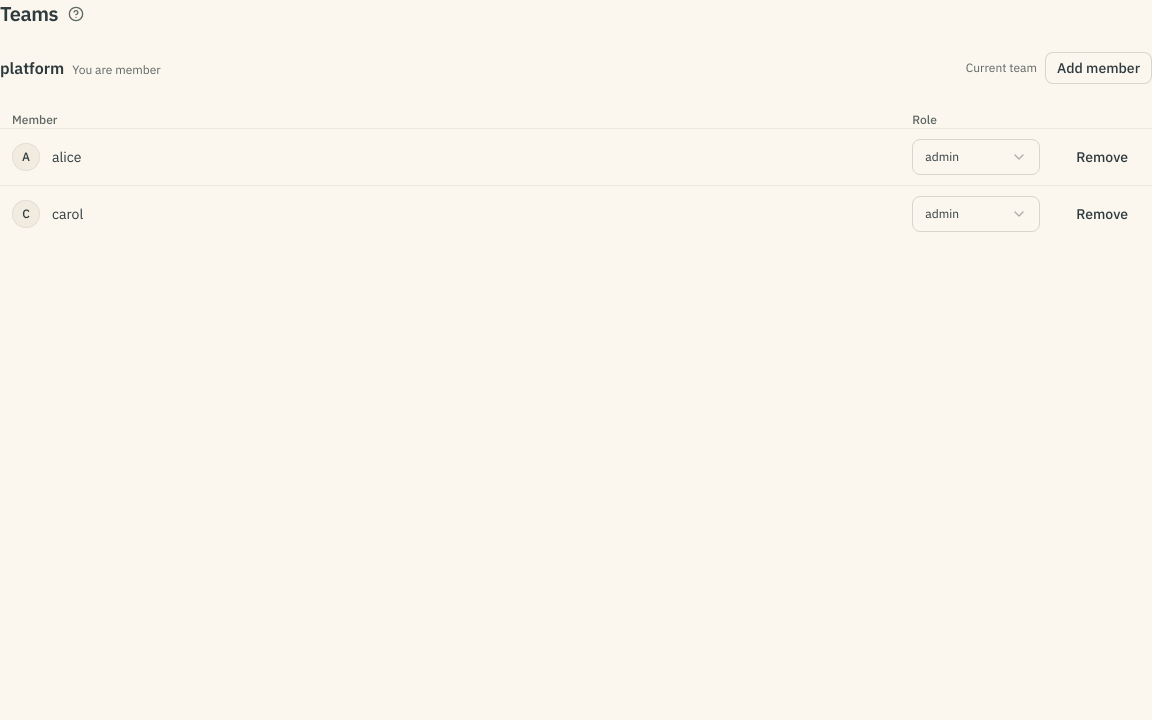
the members › removes someone once it is confirmed, and shows the brain's refusal
Click the button with aria-label "Remove alice": (1102, 156) [1064, 140, 1140, 172]
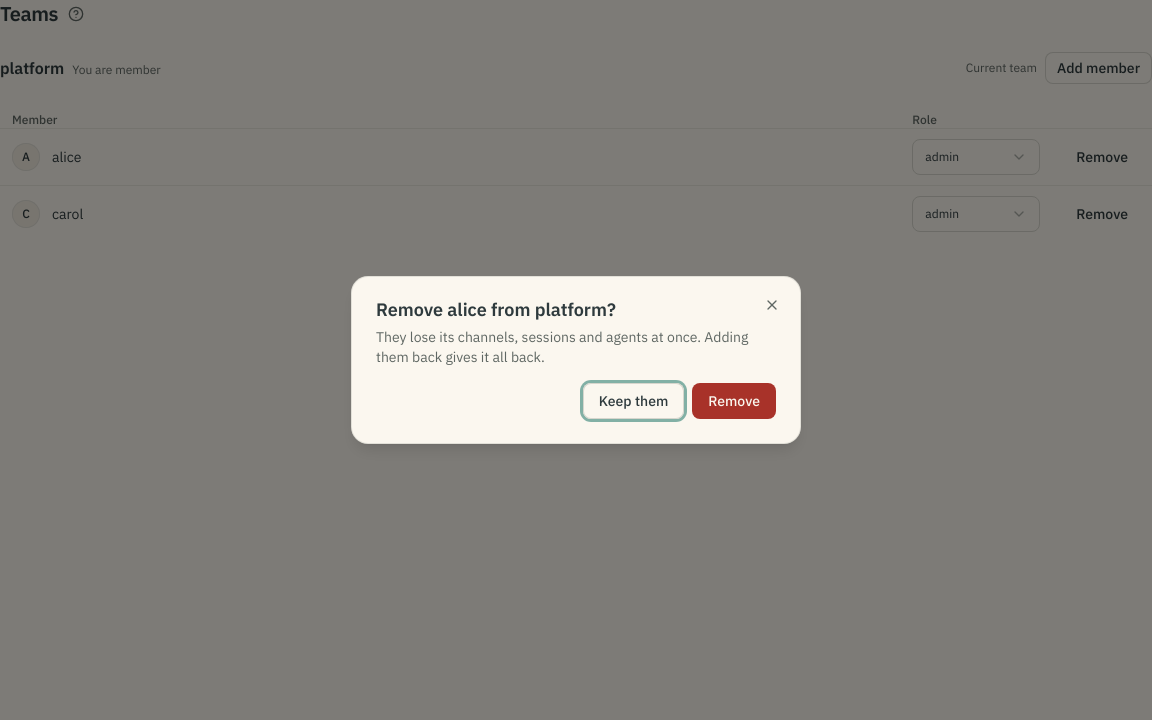
Click the button "Remove": (734, 401) [692, 383, 776, 419]
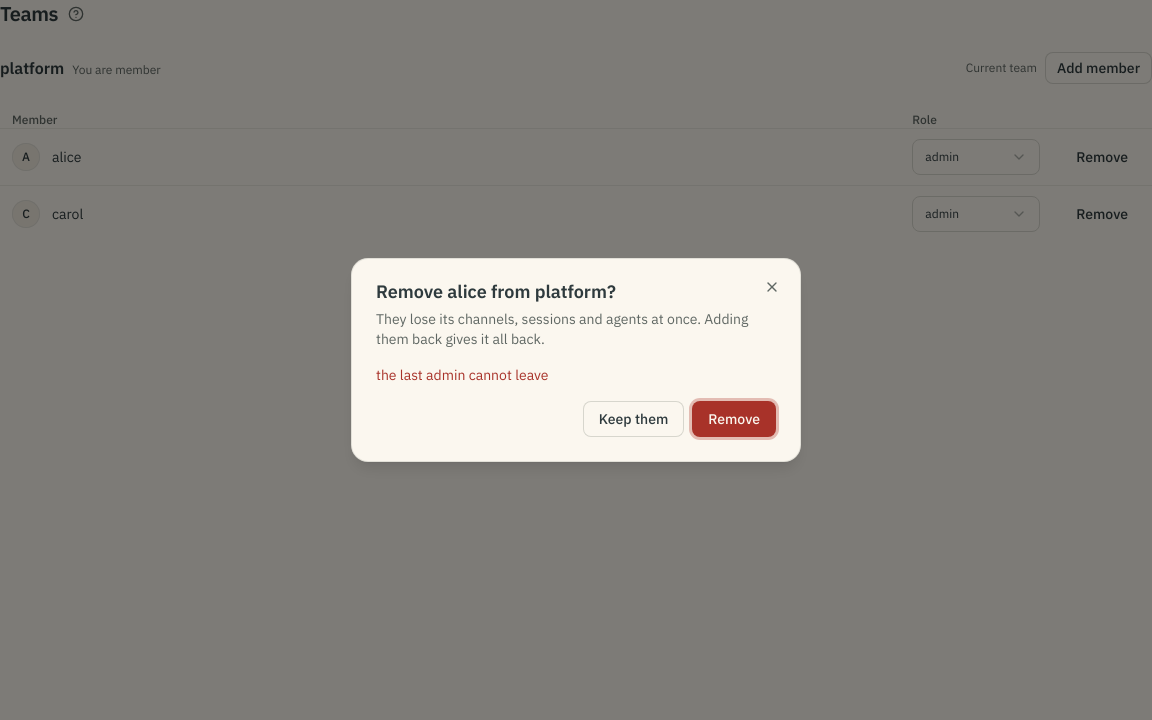
Check: the message reads "the last admin cannot leave", box [376, 366, 548, 384]
Click the button "Remove": (734, 419) [692, 401, 776, 437]
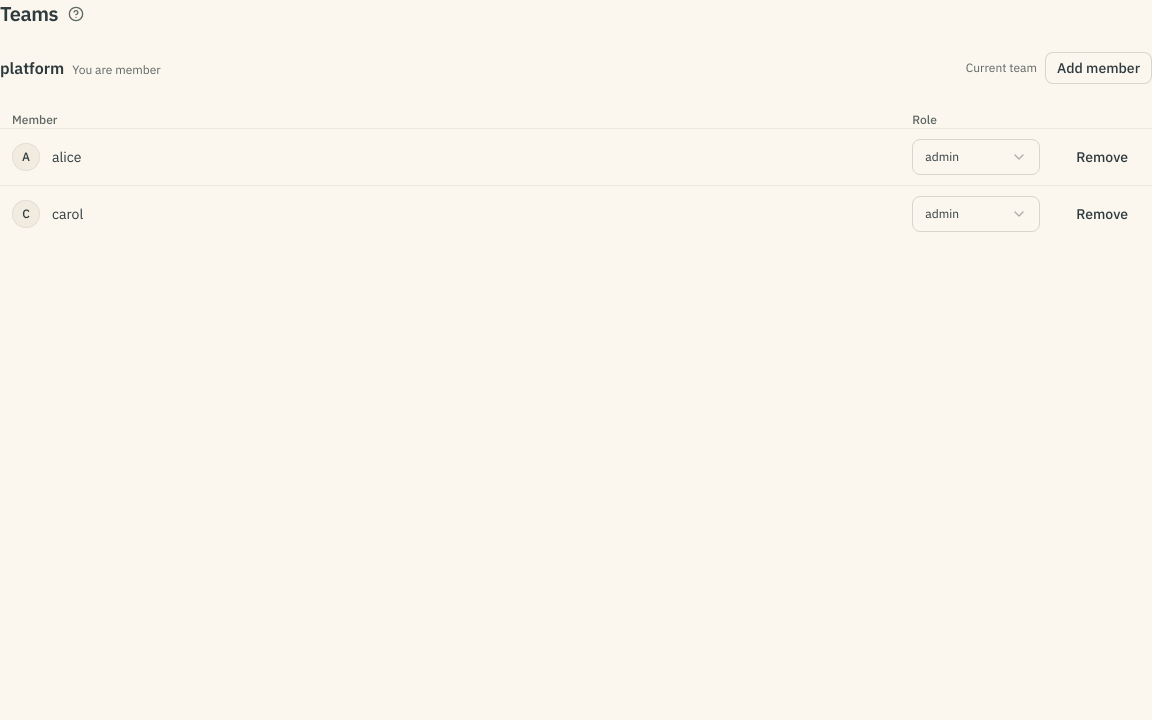
Check: the dialog is gone
